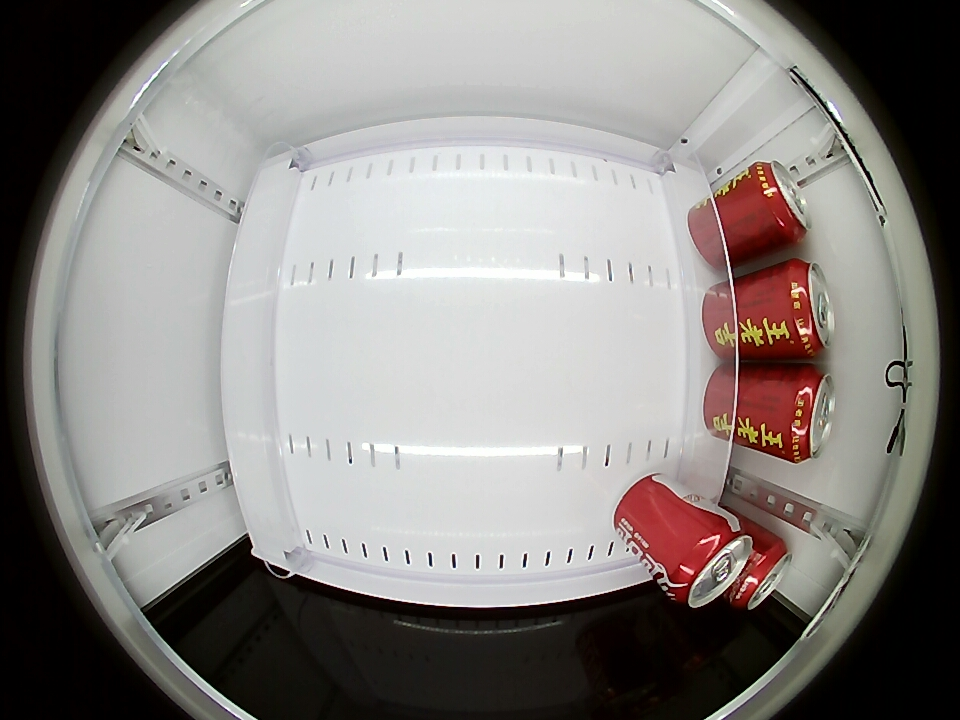kele: (667, 519, 751, 608), (733, 534, 792, 611)
wanglaoji-c: (776, 367, 835, 464), (779, 259, 834, 356), (748, 161, 811, 243)
